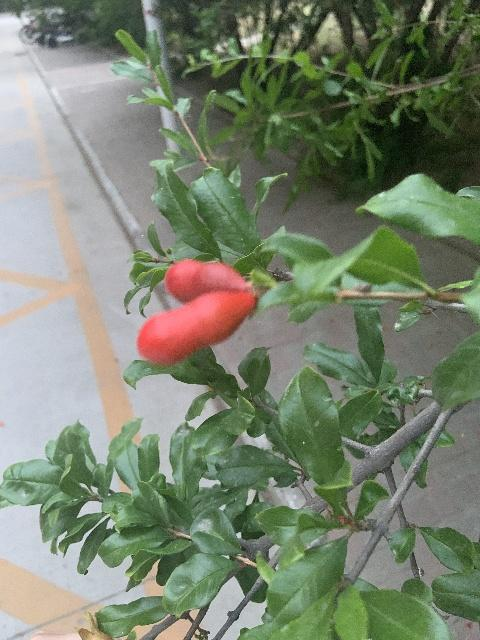bud: (137, 289, 255, 365), (163, 259, 249, 304)
